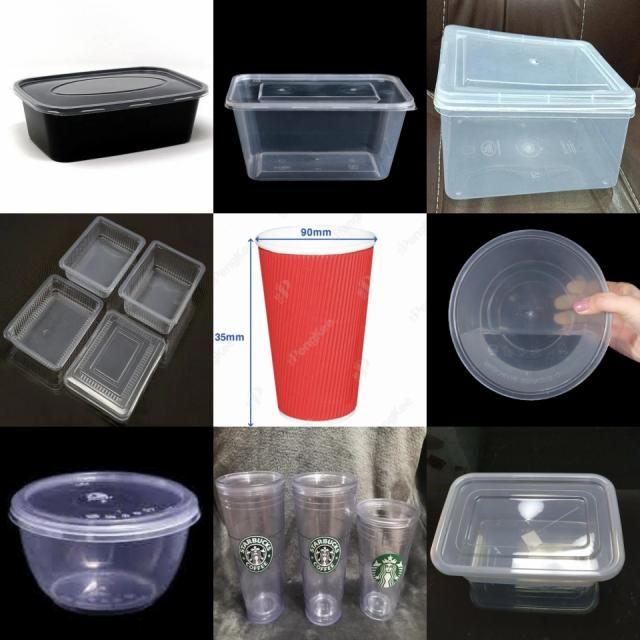Single-Use-Plastic: (434, 25, 635, 199), (449, 230, 614, 399), (9, 471, 200, 614), (255, 226, 376, 421), (431, 472, 624, 586), (225, 74, 415, 181), (14, 68, 208, 162), (64, 310, 166, 422), (215, 471, 285, 623), (291, 472, 358, 624), (4, 275, 102, 371), (119, 240, 205, 333), (356, 499, 420, 619), (59, 216, 145, 298)
